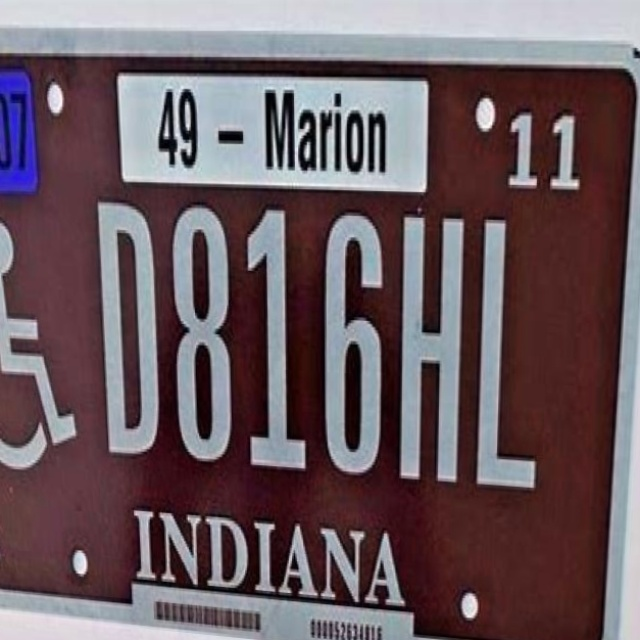ISA: (0, 220, 82, 474)
